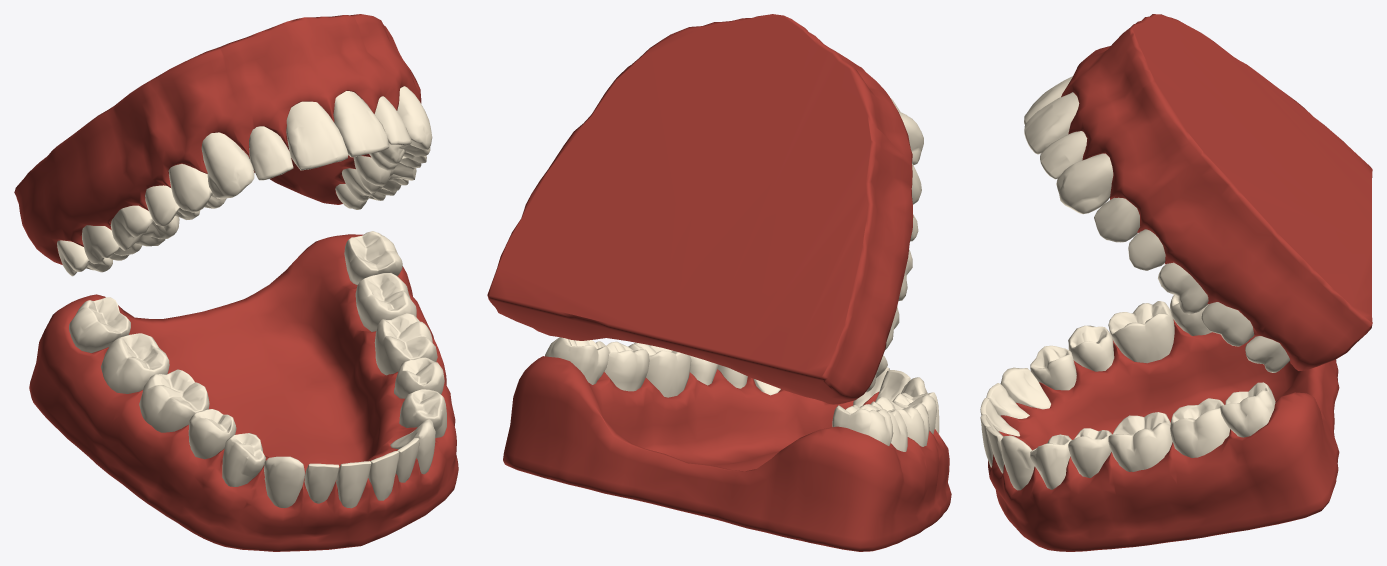
Rendered from teeth 3d model.fbx.
3 views of the same model, side by side, from view 1: azimuth 30°, elevation 25°; view 2: azimuth 150°, elevation 25°; view 3: azimuth 270°, elevation 25° (orthographic). The views are drawn at different scales.
Parts seen in each view (by area): view 1: lowgums, upgums, rmolar1l, rcentinc, rmolar2l, lmolar1l, rcanine, lcentinc, rmolar3l, lmolar2l, lmolar3l, rmolar1 (+21 smaller); view 2: upgums, lowgums, lmolar1l, lmolar2l, lmolar3l, rmolar3l, rmolar1l, rmolar2l, rlatinl, rcanine, rprem2l, lprem2l; view 3: upgums, lowgums, rmolar1l, lmolar1l, lmolar2l, lcanine, lmolar3l, lcentinc, rprem2l, rprem1l, lpremol1, lprem2l (+12 smaller).
Boxes of the visible parts, left/top/right/bottom form: lowgums: left=29, top=234, right=458, bottom=551; upgums: left=14, top=14, right=421, bottom=264; rmolar1l: left=139, top=369, right=209, bottom=432; rcentinc: left=286, top=101, right=348, bottom=170; rmolar2l: left=101, top=333, right=169, bottom=393; lmolar1l: left=374, top=313, right=437, bottom=375; rcanine: left=201, top=132, right=254, bottom=199; lcentinc: left=333, top=91, right=389, bottom=157; rmolar3l: left=69, top=297, right=130, bottom=352; lmolar2l: left=355, top=273, right=416, bottom=331; lmolar3l: left=344, top=231, right=402, bottom=284; rmolar1: left=110, top=205, right=179, bottom=250; upgums: left=487, top=14, right=913, bottom=404; lowgums: left=503, top=356, right=951, bottom=551; lmolar1l: left=628, top=342, right=691, bottom=397; lmolar2l: left=596, top=341, right=649, bottom=391; lmolar3l: left=545, top=337, right=609, bottom=384; rmolar3l: left=832, top=405, right=893, bottom=445; rmolar1l: left=870, top=396, right=929, bottom=446; rmolar2l: left=852, top=404, right=907, bottom=451; rlatinl: left=875, top=370, right=910, bottom=402; rcanine: left=899, top=112, right=923, bottom=165; rprem2l: left=892, top=393, right=936, bottom=434; lprem2l: left=690, top=355, right=718, bottom=385; upgums: left=1061, top=14, right=1372, bottom=370; lowgums: left=988, top=319, right=1339, bottom=551; rmolar1l: left=1108, top=301, right=1174, bottom=363; lmolar1l: left=1108, top=412, right=1172, bottom=471; lmolar2l: left=1170, top=398, right=1229, bottom=457; lcanine: left=1056, top=153, right=1113, bottom=214; lmolar3l: left=1220, top=382, right=1275, bottom=437; lcentinc: left=1024, top=92, right=1079, bottom=154; rprem2l: left=1068, top=325, right=1114, bottom=371; rprem1l: left=1030, top=345, right=1076, bottom=390; lpremol1: left=1094, top=197, right=1139, bottom=242; lprem2l: left=1068, top=428, right=1111, bottom=477.
Size of the model in its own units: 1.58 by 2.03 by 1.52.
